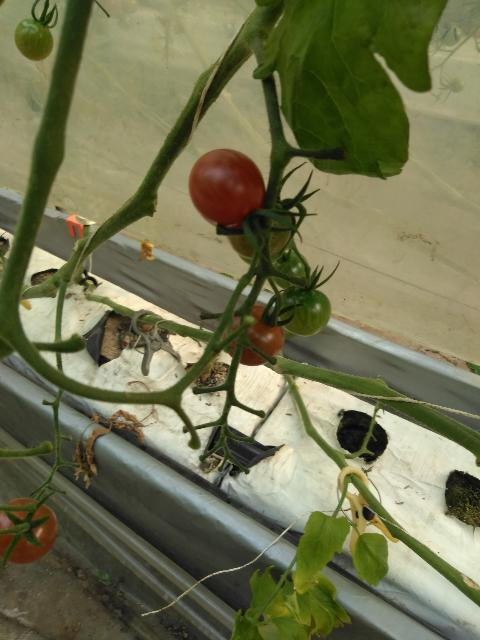l_fully_ripened: (188, 149, 266, 229)
l_green: (276, 284, 331, 337), (14, 18, 54, 61), (269, 250, 308, 289)
l_half_ripened: (224, 197, 291, 260), (222, 304, 285, 367), (0, 497, 58, 565)
